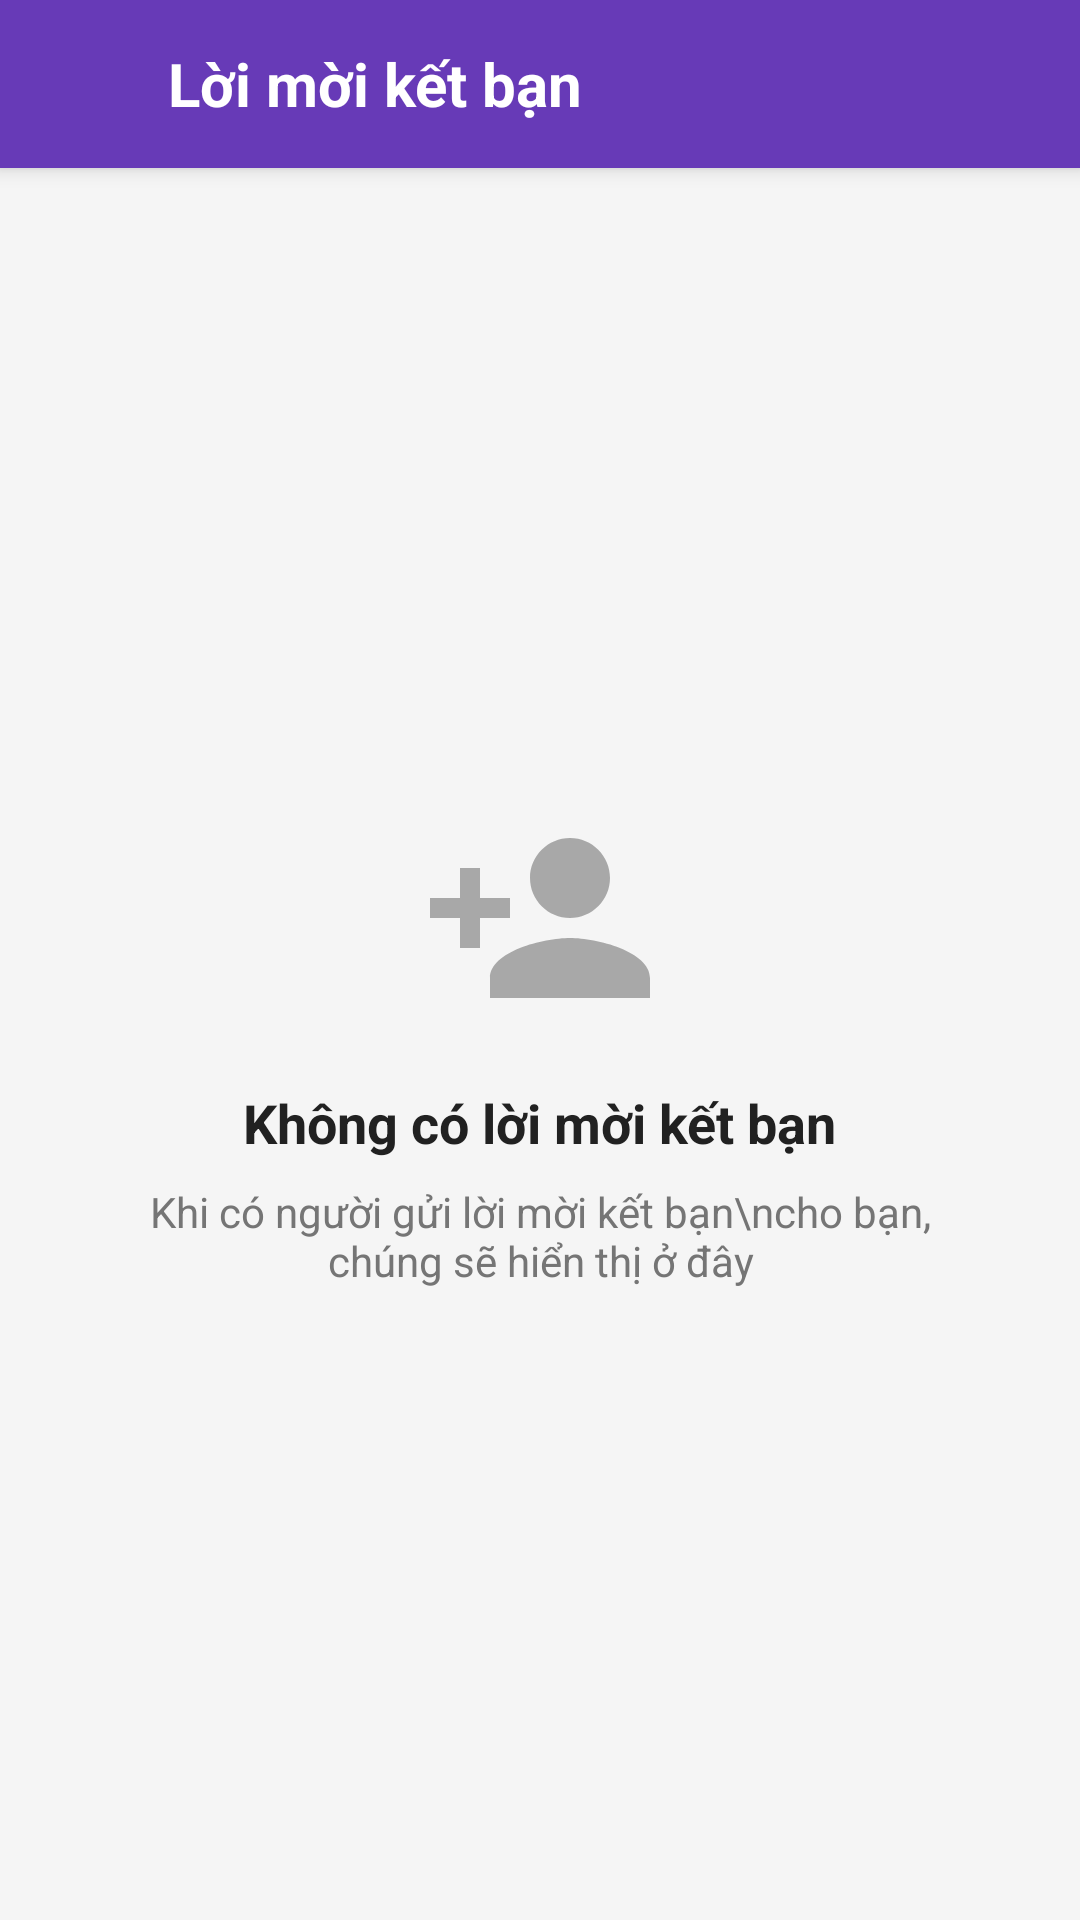

Locate icon controls on the screen. Image size 1080x1920, boxes as (x1, y1, x2, y2).
person add: (430, 838, 650, 998)
